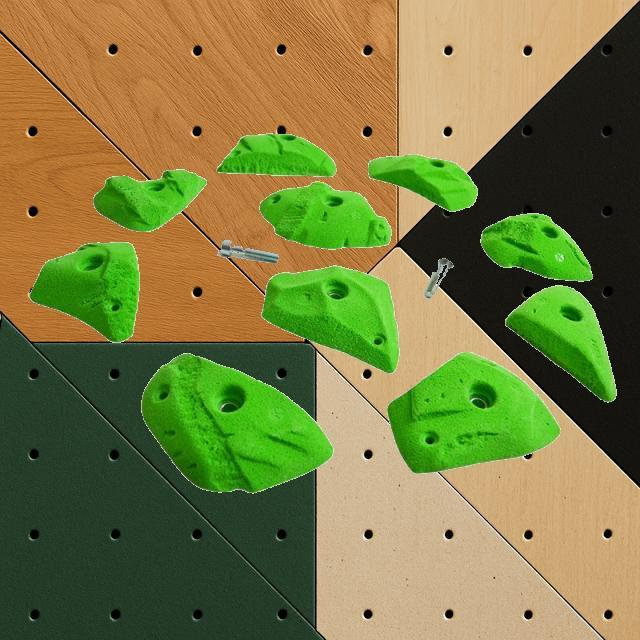Crimp: (140, 352, 332, 493), (387, 351, 561, 474), (261, 265, 399, 373), (504, 284, 616, 402), (29, 240, 140, 342), (259, 181, 391, 249), (480, 211, 592, 281), (92, 168, 206, 232), (367, 153, 477, 211), (216, 132, 336, 176)
